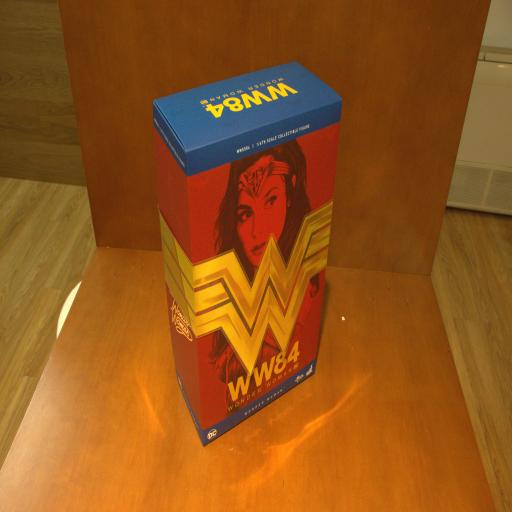WonderWoman: (152, 61, 342, 445)
